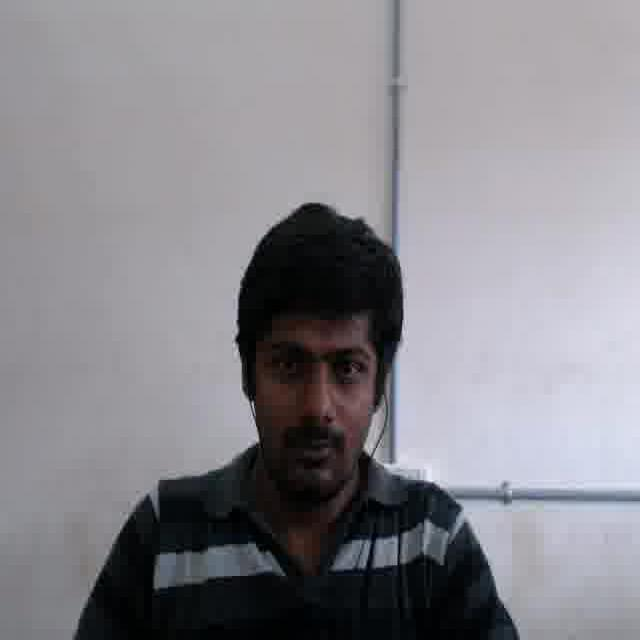Engaged: (256, 298, 374, 491)
